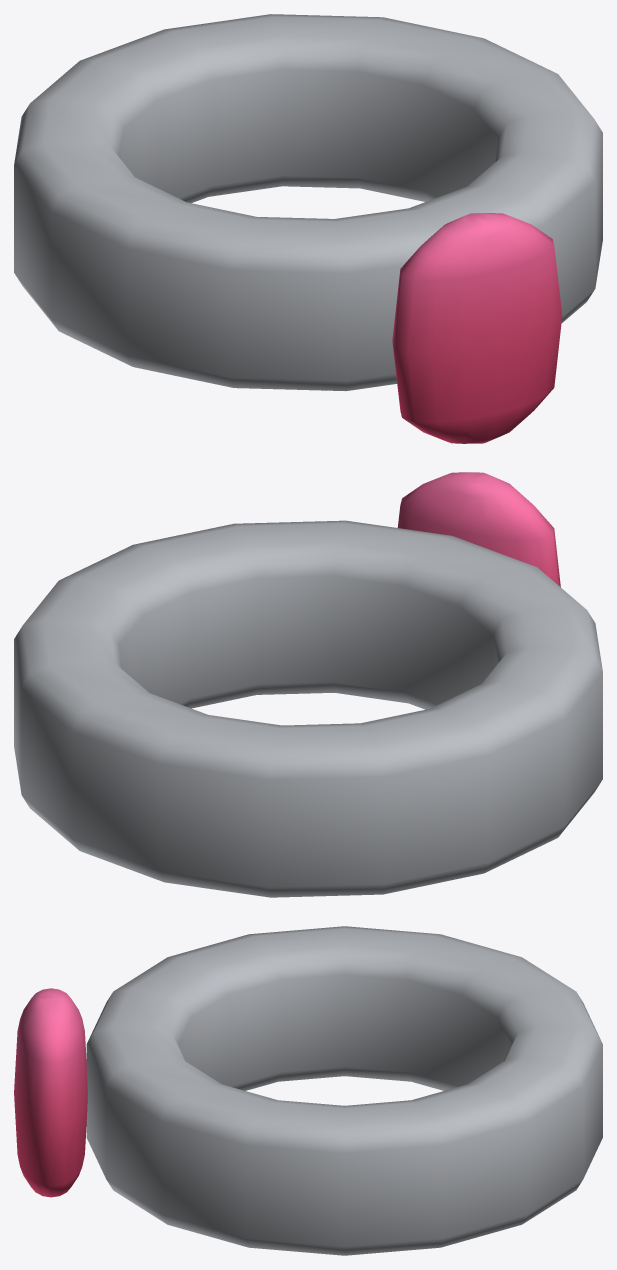
The model's file is Ring5.fbx.
3 views of the same model, one above another, from view 1: azimuth 30°, elevation 25°; view 2: azimuth 150°, elevation 25°; view 3: azimuth 270°, elevation 25° (orthographic). The views are drawn at different scales.
Visible parts, largest first — view 1: Circle.005, Cylinder.001; view 2: Circle.005, Cylinder.001; view 3: Circle.005, Cylinder.001.
Boxes of the visible parts, <box> form: Circle.005: <box>14,14,602,391</box>; Cylinder.001: <box>392,213,562,443</box>; Circle.005: <box>14,520,602,897</box>; Cylinder.001: <box>397,472,560,587</box>; Circle.005: <box>86,926,602,1255</box>; Cylinder.001: <box>14,988,87,1197</box>.
Size of the model in its own units: 138 by 56.09 by 157.
